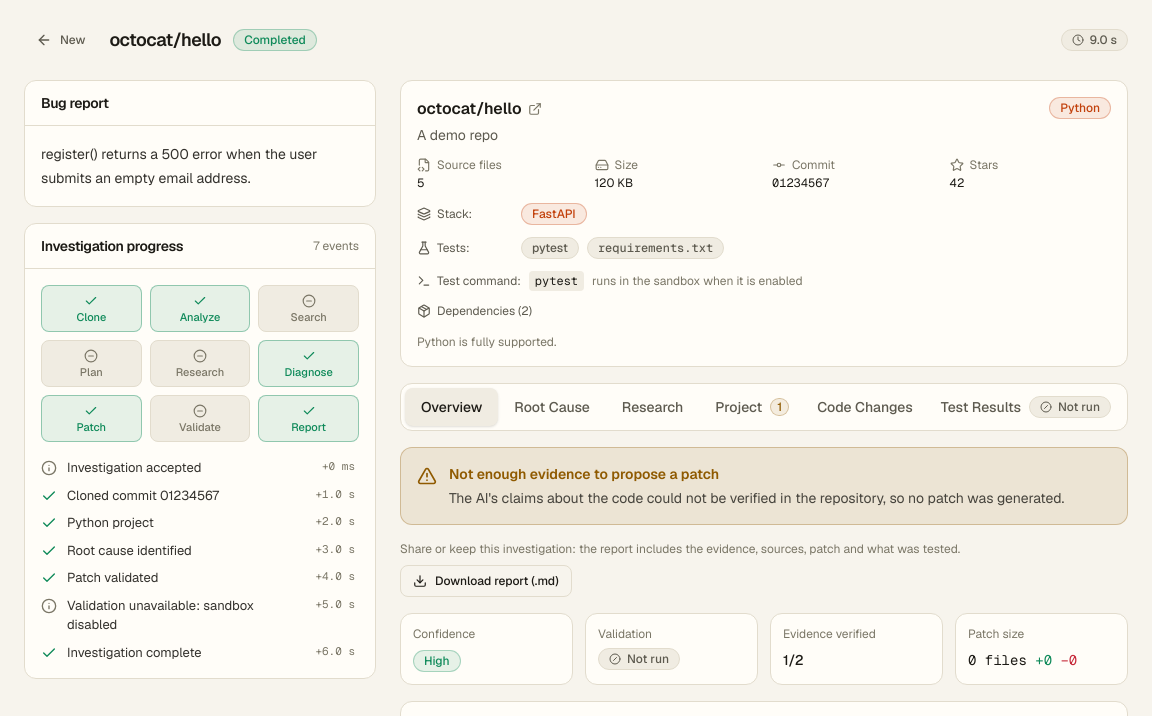
Scenario: InvestigationView states › Code Changes tab explains when no patch exists
The width and height of the screenshot is (1152, 716).
Expected: the text "Not enough evidence to propose a patch" is shown, [449,465,719,483]
Click the tab "Code Changes" at point(865, 407), box [805,388,925,426]
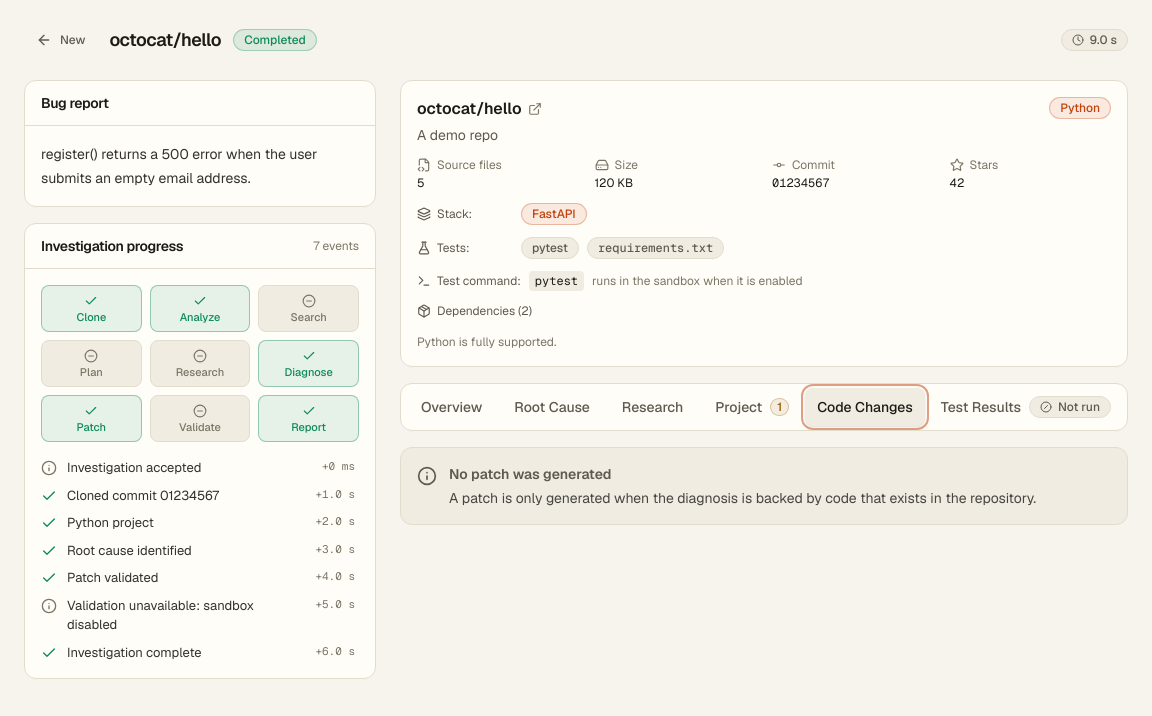
Expected: the text "No patch was generated" is shown, [449,465,612,483]
